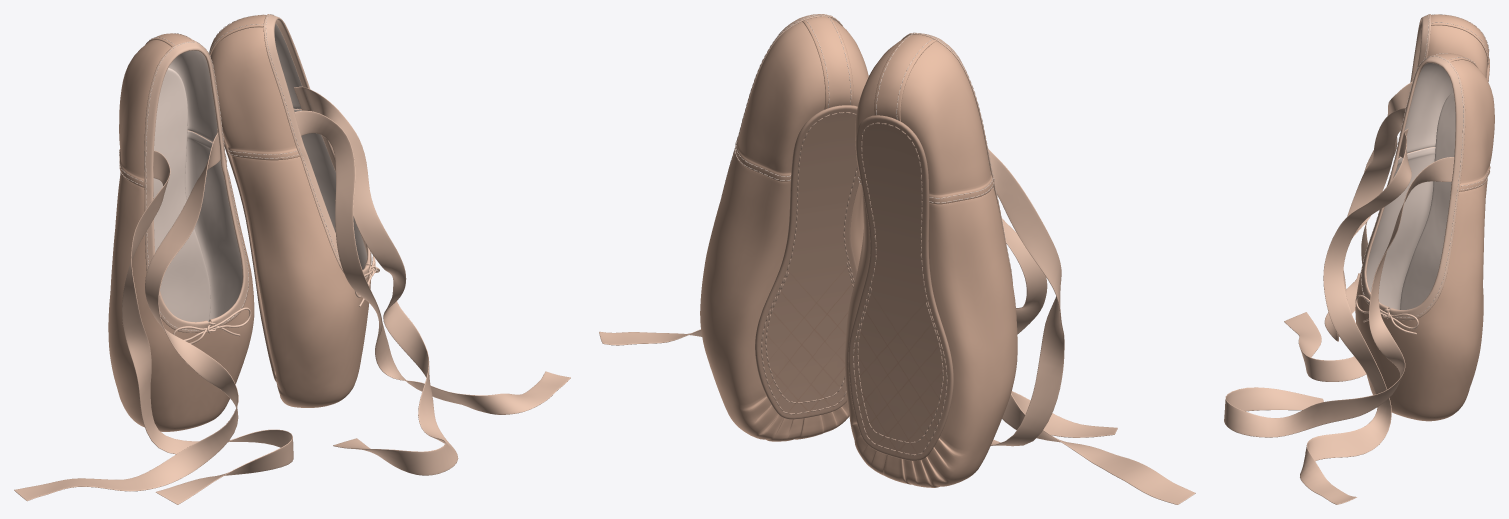
Rendered from botine.glb.
The picture shows the model from 3 angles, left to right: view 1: azimuth 30°, elevation 25°; view 2: azimuth 150°, elevation 25°; view 3: azimuth 270°, elevation 25°; orthographic projection. The views are drawn at different scales.
Visible parts, largest first — view 1: shoes_right, shoes_left; view 2: shoes_right, shoes_left; view 3: shoes_left, shoes_right.
Boxes of the visible parts, x1,y1,x2,y2 form: shoes_right: [14, 33, 293, 504]; shoes_left: [209, 14, 570, 475]; shoes_right: [844, 32, 1195, 504]; shoes_left: [599, 14, 868, 441]; shoes_left: [1224, 53, 1494, 504]; shoes_right: [1284, 14, 1489, 381].
Size of the model in its own units: 0.3212 by 0.2202 by 0.1576.
Materials: 1 (1 with a texture image).
